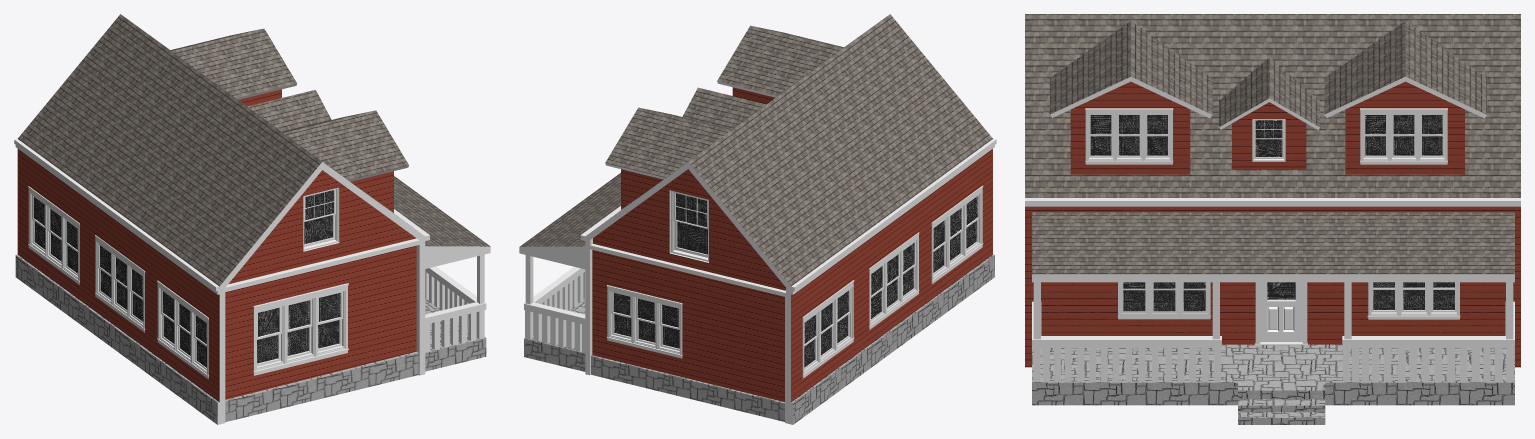
The model's file is house2.dae.
The picture shows the model from 3 angles, left to right: view 1: azimuth 30°, elevation 25°; view 2: azimuth 150°, elevation 25°; view 3: azimuth 270°, elevation 25°; orthographic projection. The views are drawn at different scales.
Parts seen in each view (by area): view 1: Model, Window_Doublehung_Triple__102x64 (×4), Upper_sash, Lower_sash, Window_Doublehung_Mullions_35x63; view 2: Model, Window_Doublehung_Triple__102x64 (×4), Upper_sash, Lower_sash, Window_Doublehung_Mullions_35x63; view 3: Model, Window_Doublehung_Triple__102x64 (×4), Door_Glass_Header_Panels_3-0x6-8, Upper_sash, Lower_sash.
Boxes of the visible parts, left/top/right/bottom form: Model: left=14, top=14, right=490, bottom=424; Window_Doublehung_Triple__102x64 (×4): left=28, top=186, right=348, bottom=379; Upper_sash: left=304, top=189, right=335, bottom=221; Lower_sash: left=304, top=214, right=334, bottom=246; Window_Doublehung_Mullions_35x63: left=303, top=187, right=339, bottom=251; Model: left=519, top=14, right=996, bottom=424; Window_Doublehung_Triple__102x64 (×4): left=606, top=185, right=983, bottom=378; Upper_sash: left=673, top=192, right=707, bottom=229; Lower_sash: left=675, top=221, right=707, bottom=257; Window_Doublehung_Mullions_35x63: left=669, top=190, right=708, bottom=262; Model: left=1025, top=14, right=1520, bottom=424; Window_Doublehung_Triple__102x64 (×4): left=1085, top=108, right=1460, bottom=319; Door_Glass_Header_Panels_3-0x6-8: left=1255, top=282, right=1307, bottom=345; Upper_sash: left=1254, top=119, right=1283, bottom=139; Lower_sash: left=1254, top=139, right=1283, bottom=158.
Size of the model in its own units: 7505 by 8589 by 5575.
6 materials, 3 textured.
